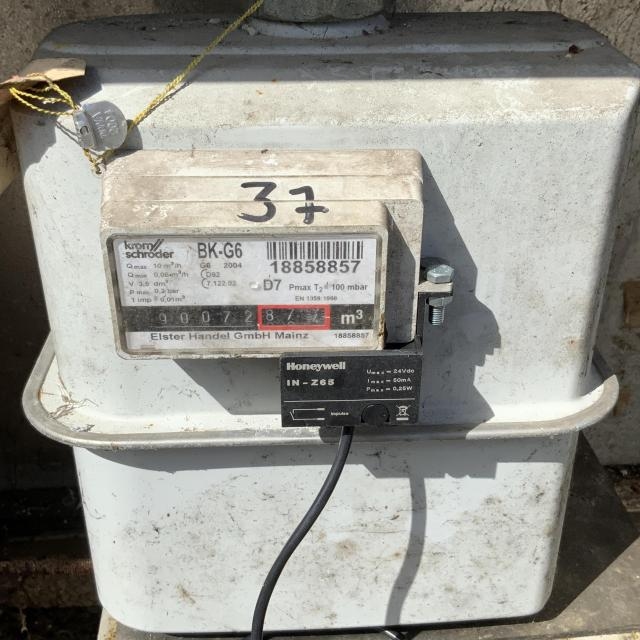gaz_meter: (109, 232, 380, 357)
indication: (118, 304, 334, 332)
